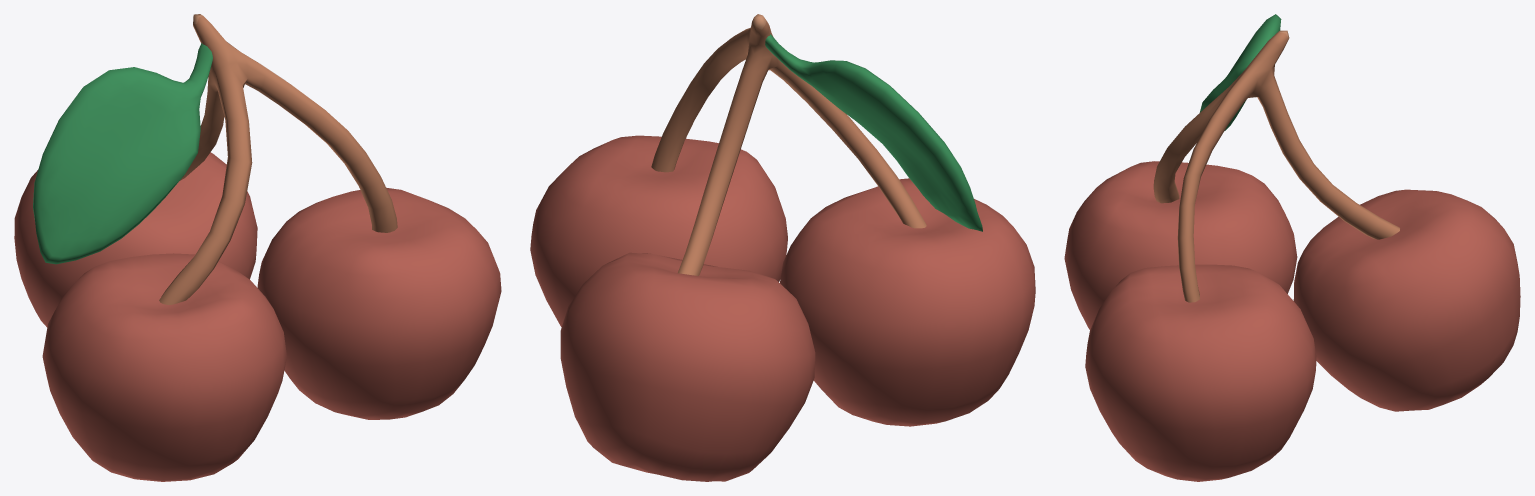
The model's file is Cherry_03.dae.
3 renders of one model, left to right at view 1: azimuth 30°, elevation 25°; view 2: azimuth 150°, elevation 25°; view 3: azimuth 270°, elevation 25°, orthographic. The views are drawn at different scales.
Visible parts, largest first — view 1: Cherry_03_LOD0; view 2: Cherry_03_LOD0; view 3: Cherry_03_LOD0.
Part boxes in pixels (<box>): Cherry_03_LOD0: <box>14,14,501,481</box>; Cherry_03_LOD0: <box>530,14,1035,481</box>; Cherry_03_LOD0: <box>1064,14,1520,481</box>.
Size of what is drawn, in the model's own units: 5.25 by 4.99 by 4.43.
